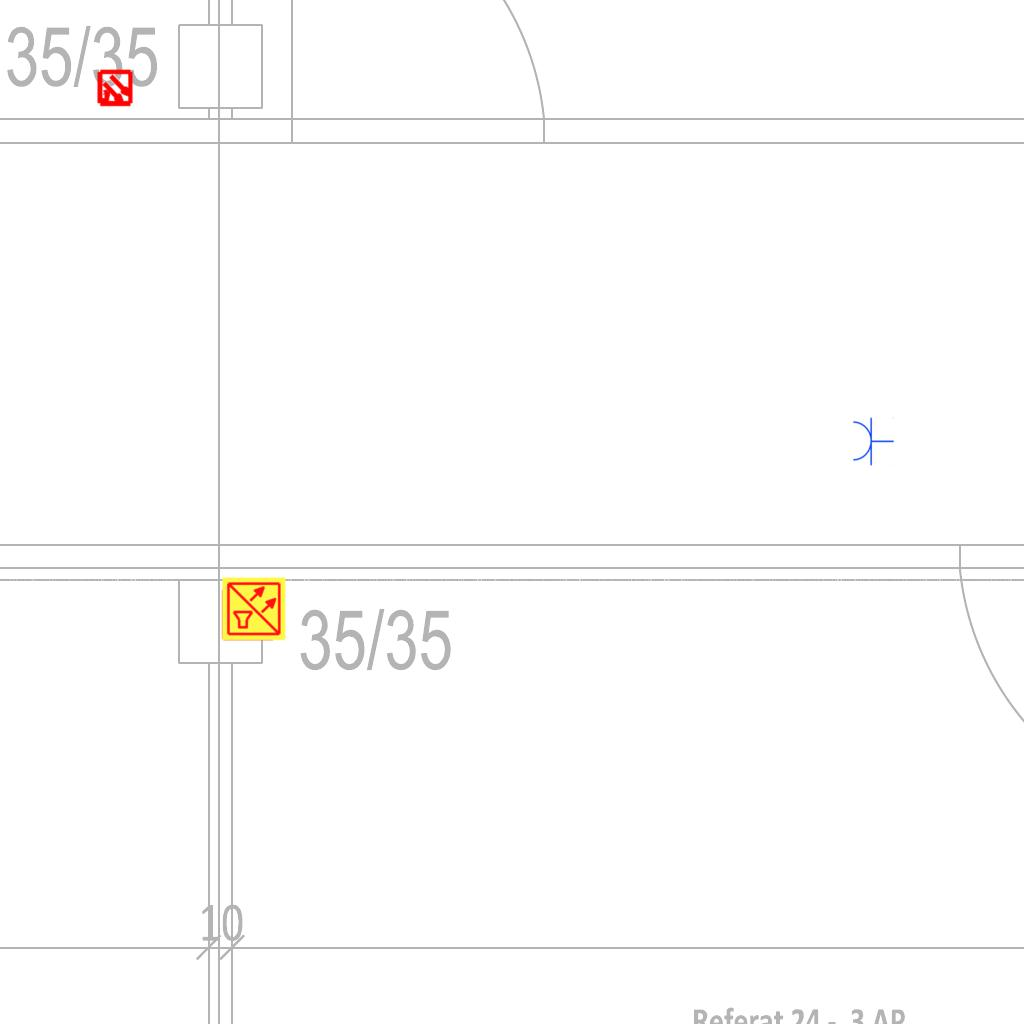OKW_Multisensormelder_(Kombination_optischer_Rauch-Kahlenmonoxid_Waerme-Melder): (221, 576, 287, 642)
OT_Multisensormelder_(Kombination_RMO_WMD): (87, 61, 143, 117)
Schukosteckdose_einfach: (851, 416, 894, 466)
